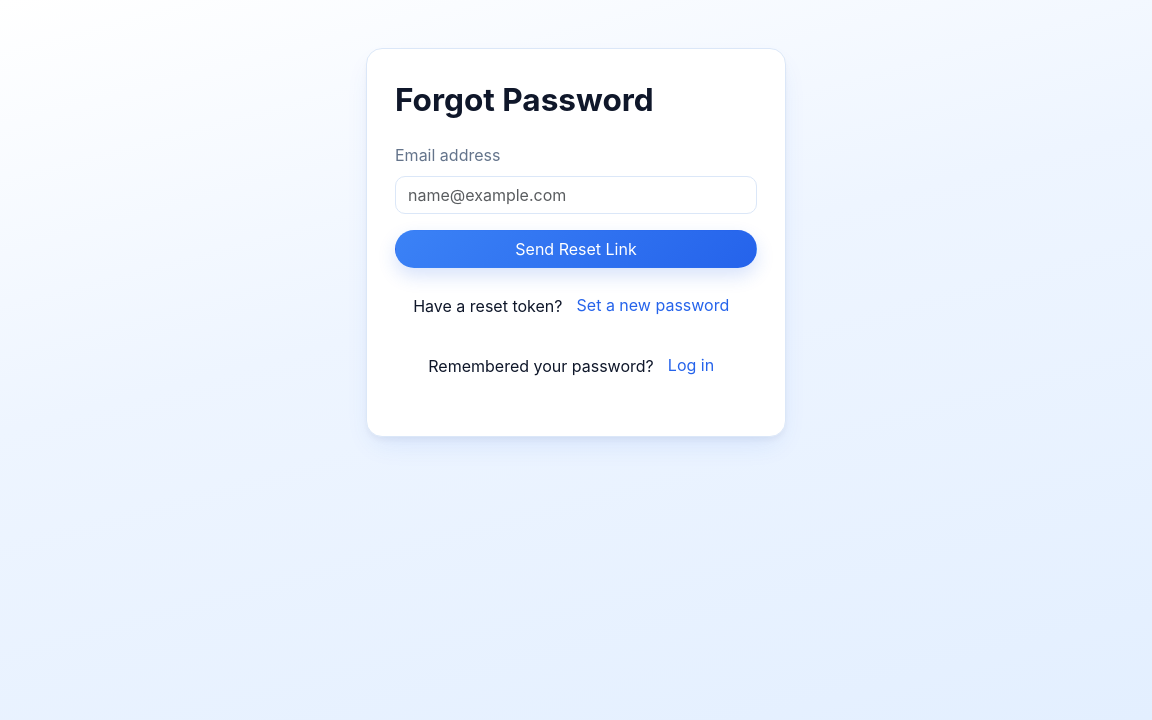
Test: ResetPassword Page › forgot-password page links to the reset page
The width and height of the screenshot is (1152, 720).
Click the link "Set a new password". click: (653, 305)
box: [576, 295, 729, 315]
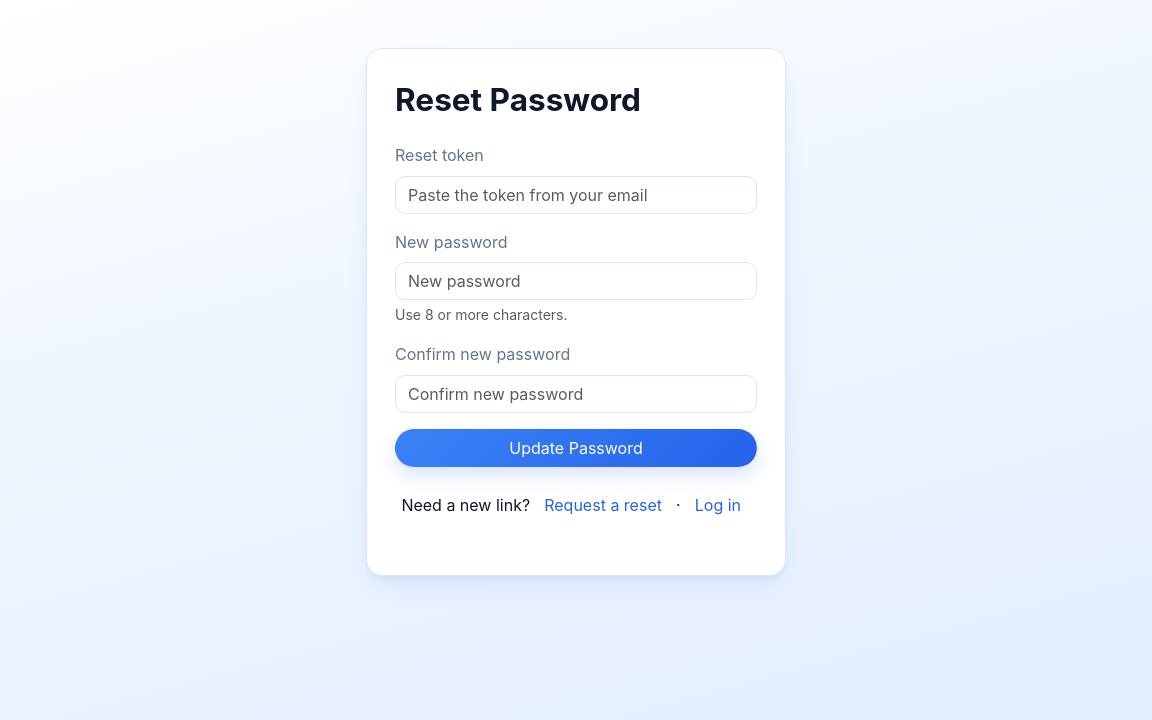
Result: the heading "Reset Password" is shown at [395, 80, 641, 119]
